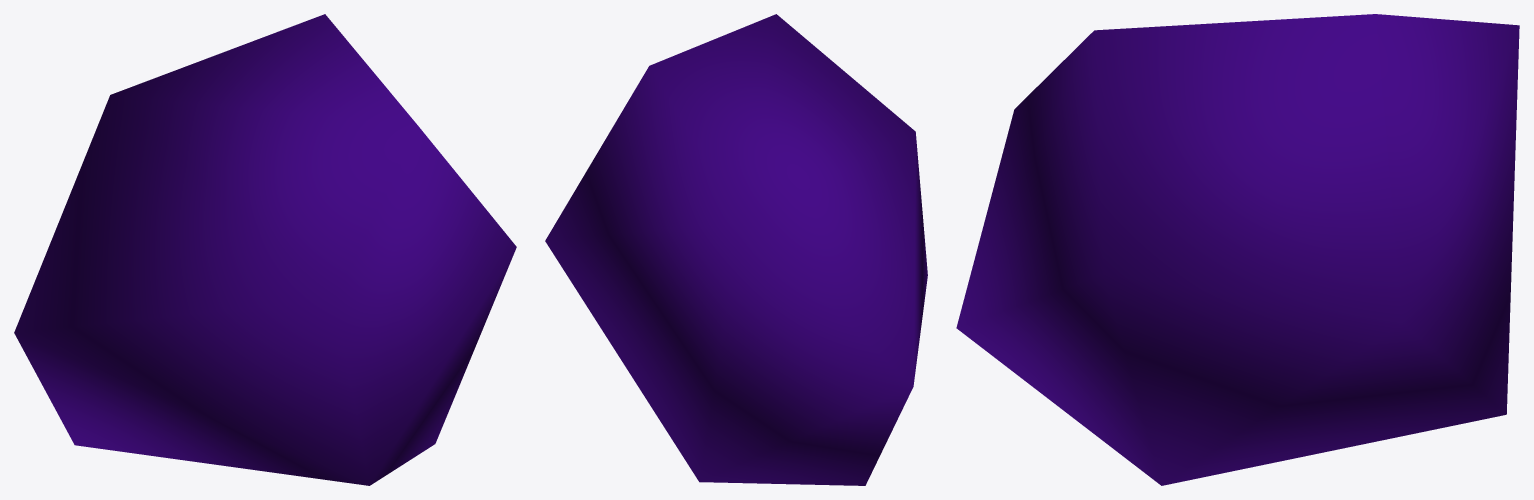
The model's file is AsteroidParticle_02.fbx.
3 renders of one model, left to right at view 1: azimuth 30°, elevation 25°; view 2: azimuth 150°, elevation 25°; view 3: azimuth 270°, elevation 25°, orthographic. The views are drawn at different scales.
Visible parts, largest first — view 1: AsteroidParticle_02; view 2: AsteroidParticle_02; view 3: AsteroidParticle_02.
Boxes of the visible parts, box(x1,y1,x2,y2) form: AsteroidParticle_02: box(14, 14, 516, 485); AsteroidParticle_02: box(545, 14, 927, 485); AsteroidParticle_02: box(956, 14, 1519, 485).
Bounding box in the file's own units: 2.63 × 2.41 × 2.63.
Materials: 1 (1 with a texture image).
